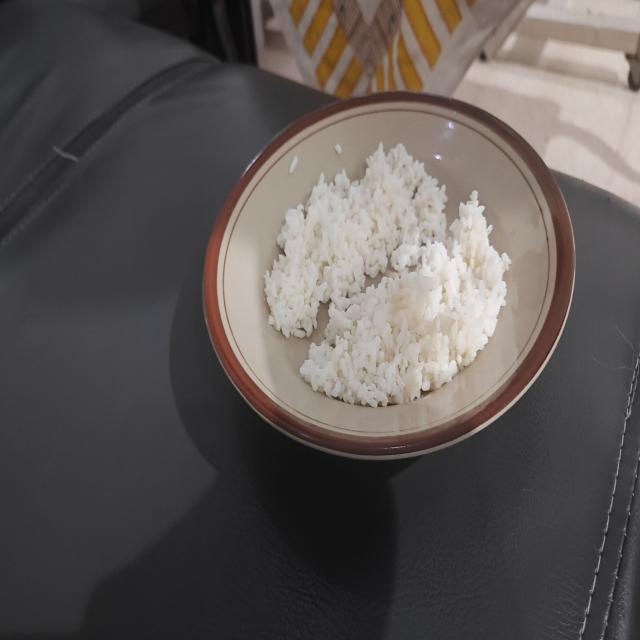nasi_putih: (264, 143, 510, 407)
